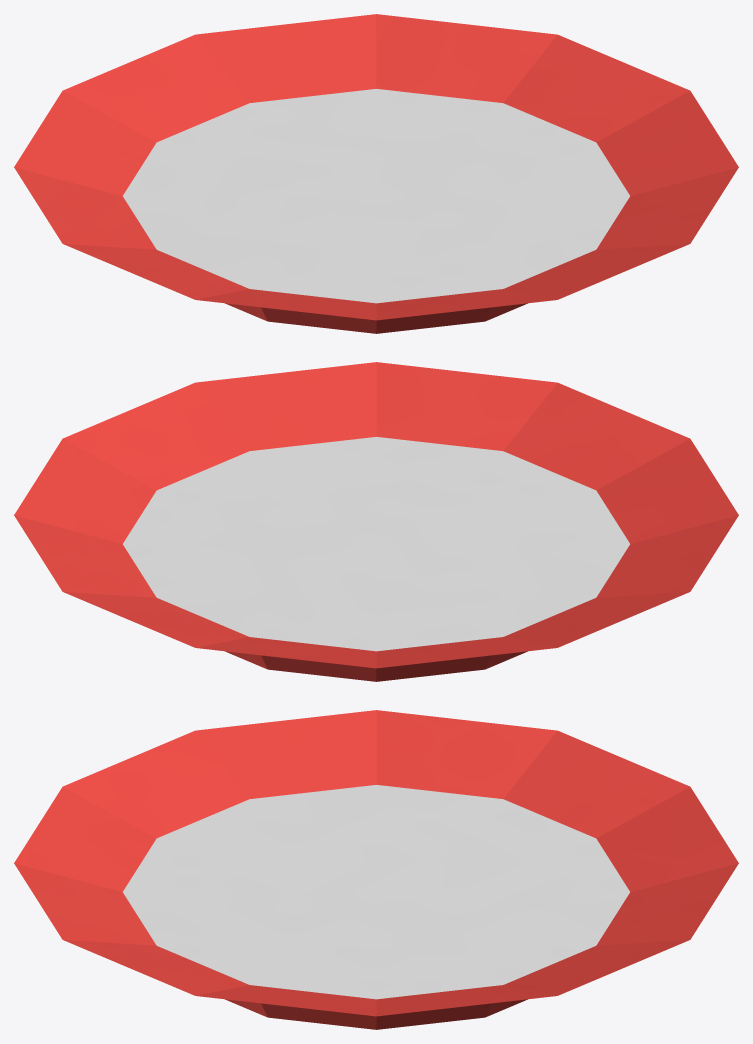
Rendered from Plate_03.fbx.
3 views of the same model, one above another, from view 1: azimuth 30°, elevation 25°; view 2: azimuth 150°, elevation 25°; view 3: azimuth 270°, elevation 25° (orthographic).
Visible parts, largest first — view 1: Plate_03; view 2: Plate_03; view 3: Plate_03.
Boxes of the visible parts, box(x1,y1,x2,y2) form: Plate_03: box(14, 14, 738, 333); Plate_03: box(14, 362, 738, 681); Plate_03: box(14, 710, 738, 1029).
Bounding box in the file's own units: 0.2734 × 0.0311 × 0.2734.
